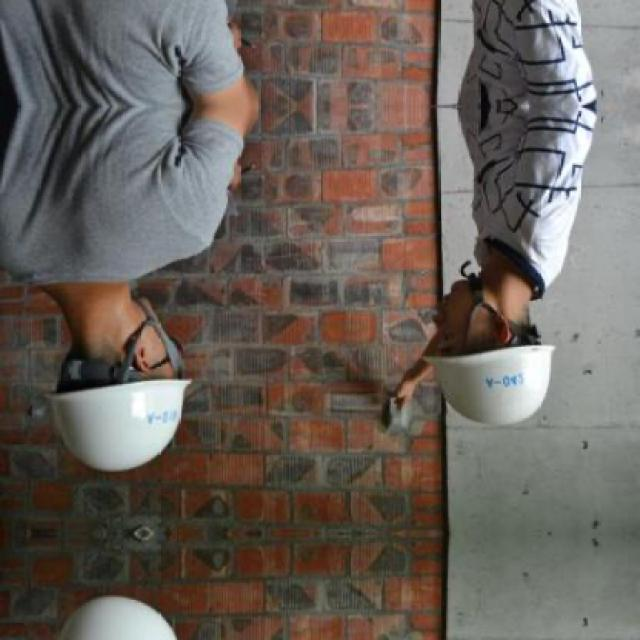con casco: (57, 288, 231, 470), (389, 304, 577, 449)
